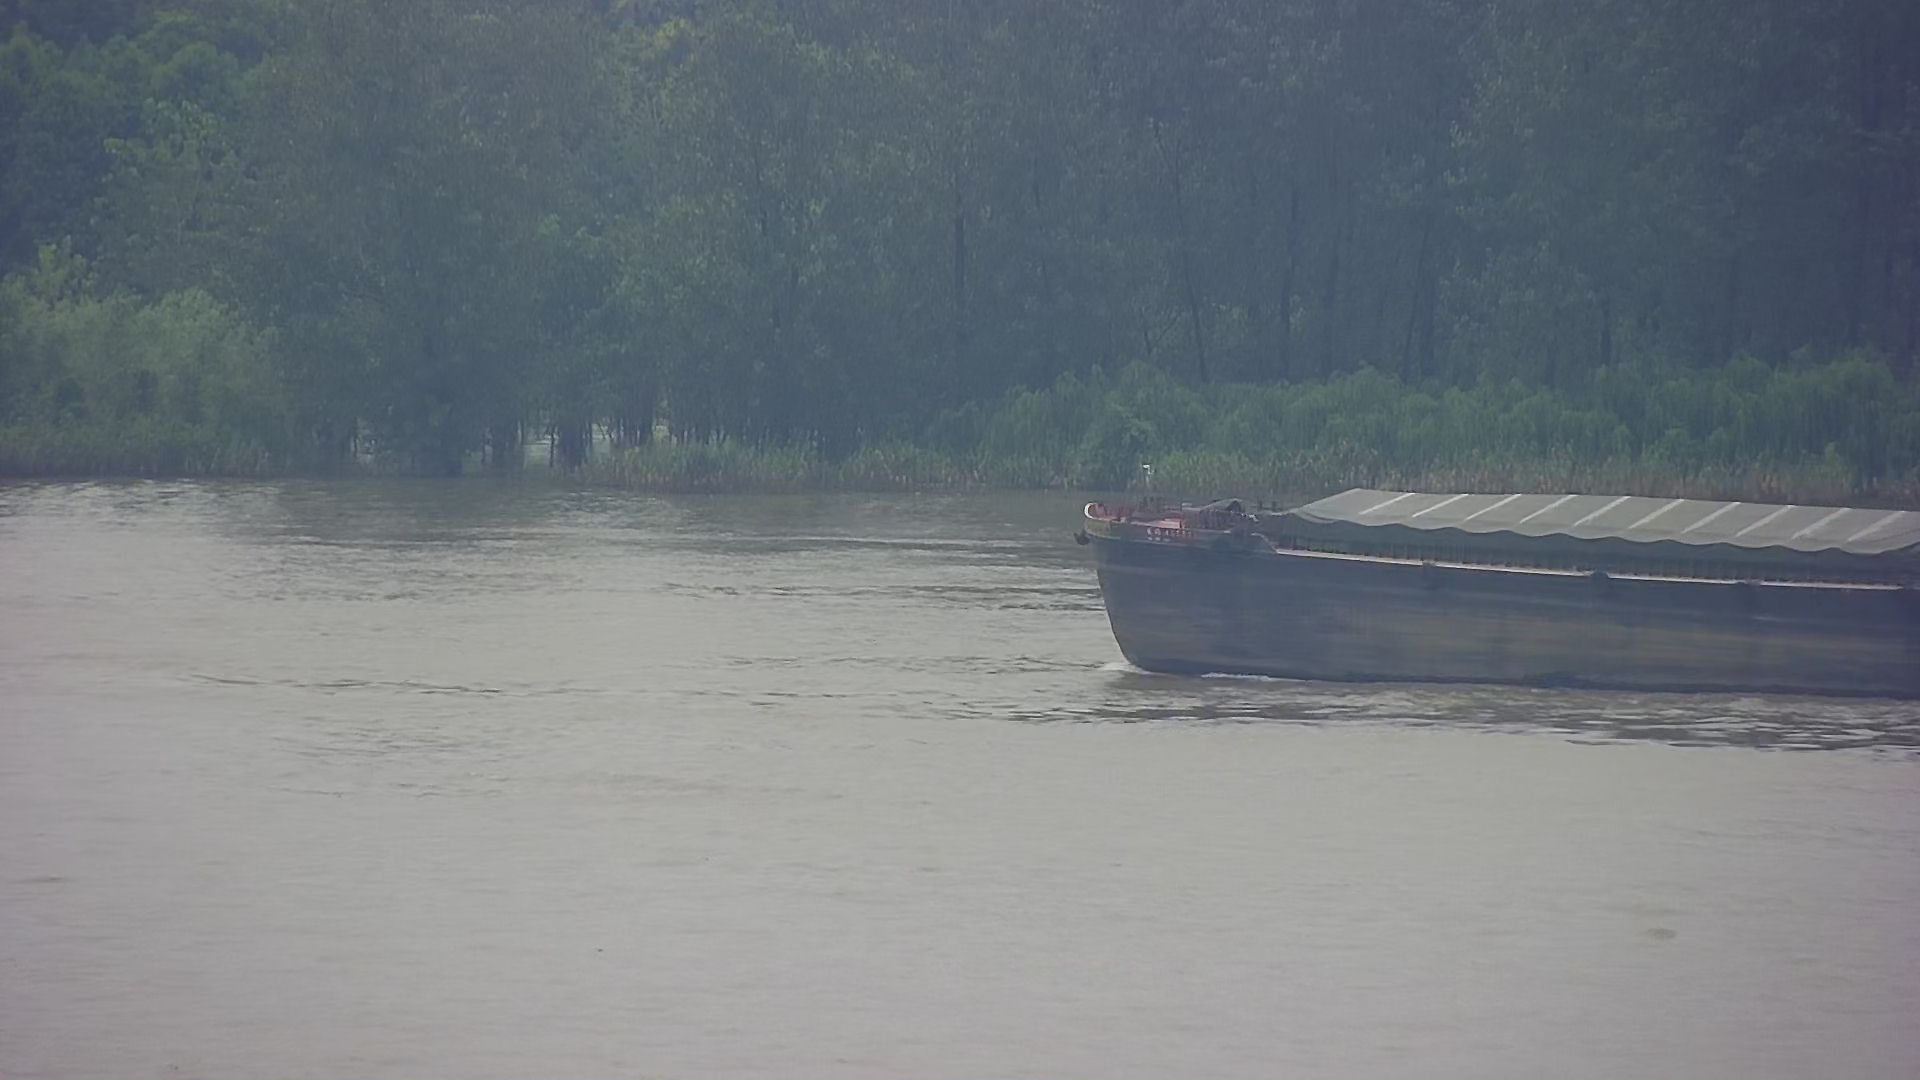ship: (1047, 444, 1920, 723)
